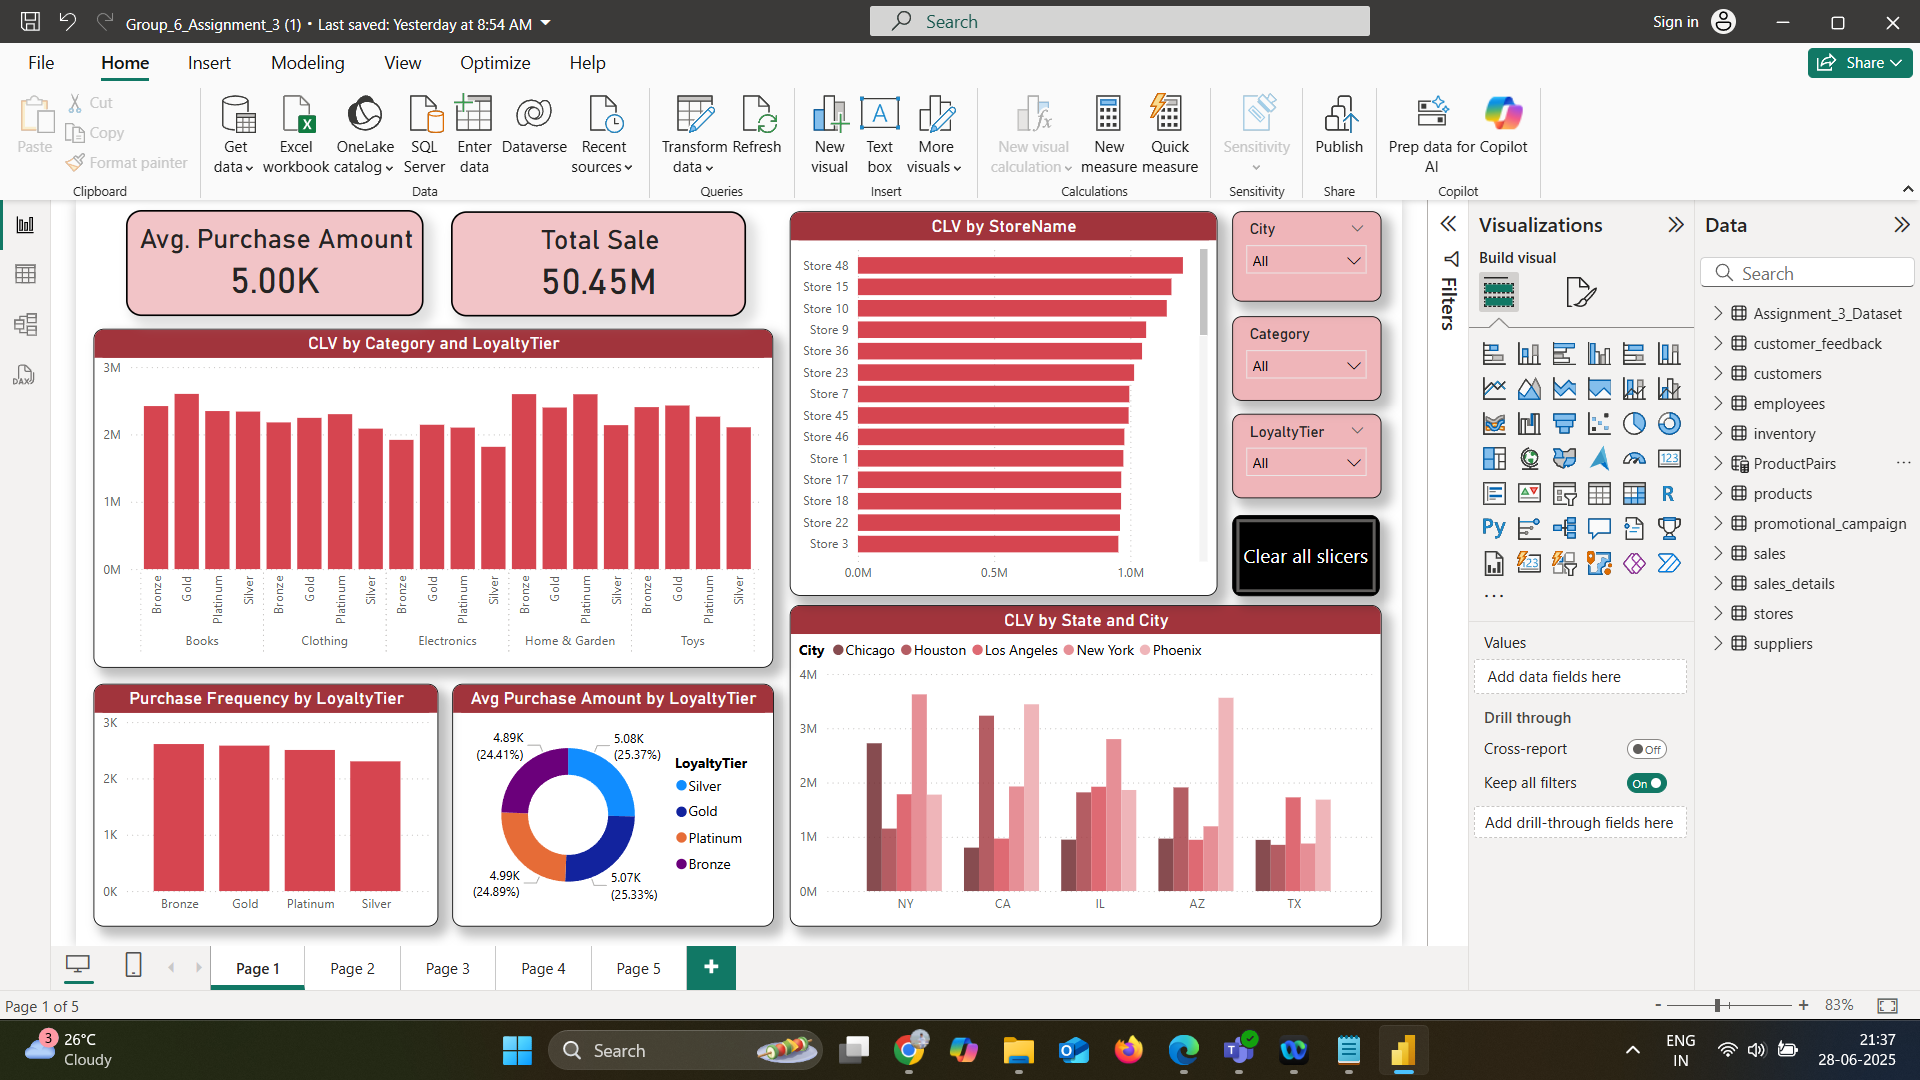

The dashboard page shown, as its layout file describes it:
{"tool":"powerbi","page":{"name":"Page 1","canvas":[1280,720],"ordinal":0},"visuals":[{"type":"donutChart","fields":{"Category":["customers.LoyaltyTier"],"Y":["sales.Avg Purchase Amount"]},"box":[362.9,467.1,310,234.3],"z":0},{"type":"columnChart","fields":{"Y":["sales.Purchase Frequency"],"Category":["customers.LoyaltyTier"]},"box":[17.1,467.1,332.9,234.3],"z":1000},{"type":"clusteredColumnChart","fields":{"Category":["stores.State"],"Y":["sales.CLV"],"Series":["stores.City"]},"box":[688.6,391.4,571.4,310],"z":3000},{"type":"clusteredColumnChart","fields":{"Category":["products.Category","customers.LoyaltyTier"],"Y":["sales.CLV"]},"box":[17.1,124.3,655.7,327.1],"z":4000},{"type":"slicer","fields":{"Values":["customers.LoyaltyTier"]},"box":[1116.2,206.2,143.8,81.2],"z":5000},{"type":"slicer","fields":{"Values":["products.Category"]},"box":[1116.2,112.5,143.8,81.2],"z":6000},{"type":"slicer","fields":{"Values":["stores.City"]},"box":[1116.2,11.2,143.8,87.5],"z":7000},{"type":"actionButton","box":[1116.2,303.8,142.5,78.8],"z":8000},{"type":"card","title":"Avg. Purchase Amount","fields":{"Values":["sales.Avg Purchase Amount"]},"box":[48.8,10,287.5,102.5],"z":9000},{"type":"card","title":"Total Sale","fields":{"Values":["sales.TotalSales"]},"box":[362.5,11.2,285,101.2],"z":10000},{"type":"barChart","fields":{"Y":["sales.CLV"],"Category":["stores.StoreName"]},"box":[688.8,11.2,412.5,371.2],"z":10001}]}

Visuals, with their boxes on the page's 1280x720 design canvas (x1, y1, x2, y2). These are canvas units, not pixel positions in the 1920x1080 screenshot, which may show the page scaled, cropped or inside an application window:
donutChart - customers.LoyaltyTier x sales.Avg Purchase Amount: bbox(363, 467, 673, 701)
columnChart - sales.Purchase Frequency x customers.LoyaltyTier: bbox(17, 467, 350, 701)
clusteredColumnChart - stores.State x sales.CLV: bbox(689, 391, 1260, 701)
clusteredColumnChart - products.Category x customers.LoyaltyTier: bbox(17, 124, 673, 451)
slicer - customers.LoyaltyTier: bbox(1116, 206, 1260, 287)
slicer - products.Category: bbox(1116, 112, 1260, 194)
slicer - stores.City: bbox(1116, 11, 1260, 99)
actionButton: bbox(1116, 304, 1259, 383)
"Avg. Purchase Amount" card: bbox(49, 10, 336, 112)
"Total Sale" card: bbox(362, 11, 648, 112)
barChart - sales.CLV x stores.StoreName: bbox(689, 11, 1101, 382)
